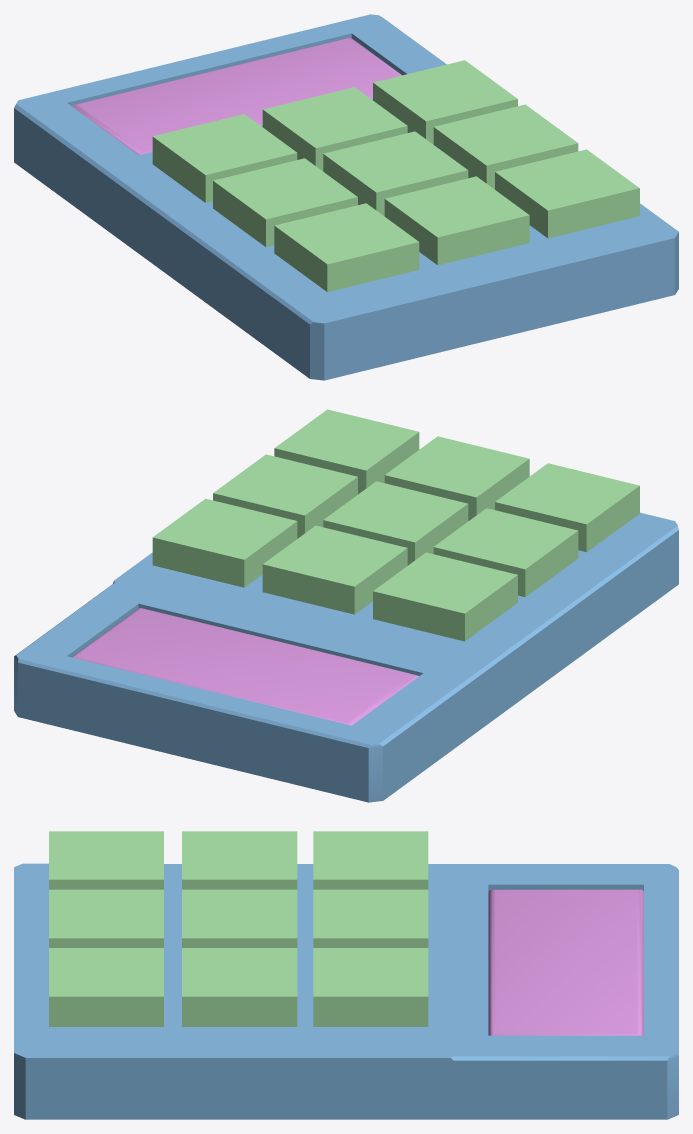
The model's file is music-gadget.gltf.
The picture shows the model from 3 angles, top to bottom: view 1: azimuth 30°, elevation 25°; view 2: azimuth 150°, elevation 25°; view 3: azimuth 270°, elevation 25°; orthographic projection. The views are drawn at different scales.
Parts seen in each view (by area): view 1: Base, Screen, BTN_07, BTN_08, BTN_09, BTN_04, BTN_01, BTN_05, BTN_06, BTN_02, BTN_03; view 2: Base, Screen, BTN_01, BTN_03, BTN_02, BTN_07, BTN_04, BTN_09, BTN_08, BTN_05, BTN_06; view 3: Base, Screen, BTN_03, BTN_06, BTN_09, BTN_01, BTN_04, BTN_02, BTN_05, BTN_08, BTN_07.
Part boxes in pixels (x1,y1,x2,y2): Base: (14,14,678,380); Screen: (71,37,401,155); BTN_07: (274,203,419,292); BTN_08: (384,176,529,265); BTN_09: (495,149,639,238); BTN_04: (213,158,357,247); BTN_01: (152,114,297,202); BTN_05: (323,131,468,216); BTN_06: (433,104,578,189); BTN_02: (262,87,407,171); BTN_03: (373,60,517,144); Base: (14,512,678,802); Screen: (72,608,418,725); BTN_01: (373,552,517,641); BTN_03: (152,498,297,587); BTN_02: (262,525,407,614); BTN_07: (495,463,639,552); BTN_04: (433,508,578,597); BTN_09: (274,409,419,494); BTN_08: (384,436,529,520); BTN_05: (323,481,468,565); BTN_06: (213,454,357,538); Base: (14,863,678,1119); Screen: (488,889,643,1035); BTN_03: (313,948,428,1026); BTN_06: (182,948,297,1026); BTN_09: (49,948,163,1026); BTN_01: (313,831,428,889); BTN_04: (182,831,297,889); BTN_02: (313,889,428,947); BTN_05: (182,889,297,947); BTN_08: (49,889,163,947); BTN_07: (49,831,163,889).
Size of the model in its own units: 4.02 by 1.04 by 5.78.
